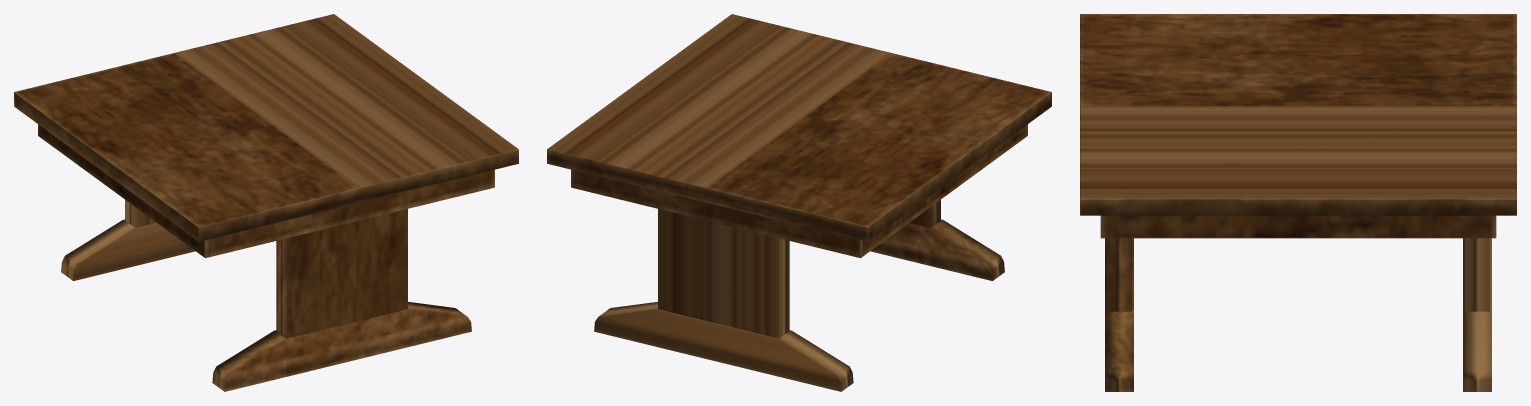
The model's file is objects_un_t03wooddesk01.gltf.
3 views of the same model, side by side, from view 1: azimuth 30°, elevation 25°; view 2: azimuth 150°, elevation 25°; view 3: azimuth 270°, elevation 25° (orthographic). The views are drawn at different scales.
Parts seen in each view (by area): view 1: objects_un_t03wooddesk01_mesh_shape:objects_un_t03wooddesk01; view 2: objects_un_t03wooddesk01_mesh_shape:objects_un_t03wooddesk01; view 3: objects_un_t03wooddesk01_mesh_shape:objects_un_t03wooddesk01.
Part boxes in pixels (x1=…): objects_un_t03wooddesk01_mesh_shape:objects_un_t03wooddesk01: x1=14, y1=14, x2=518, y2=391; objects_un_t03wooddesk01_mesh_shape:objects_un_t03wooddesk01: x1=547, y1=14, x2=1051, y2=391; objects_un_t03wooddesk01_mesh_shape:objects_un_t03wooddesk01: x1=1080, y1=14, x2=1516, y2=391.
Size of what is drawn, in the model's own units: 1.39 by 0.75 by 1.39.
1 material, 1 textured.
